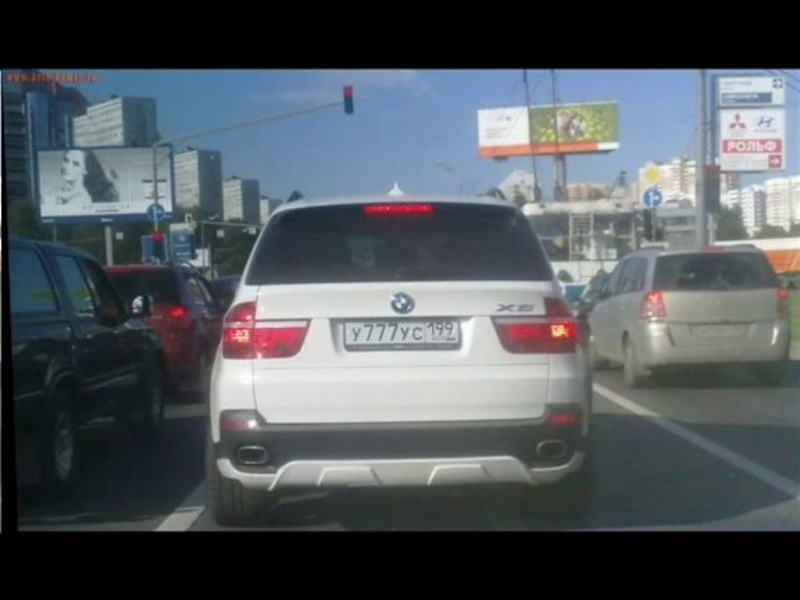car: (205, 194, 591, 518), (6, 237, 166, 491), (586, 246, 792, 387), (102, 263, 222, 409)
plate: (345, 320, 458, 344)
